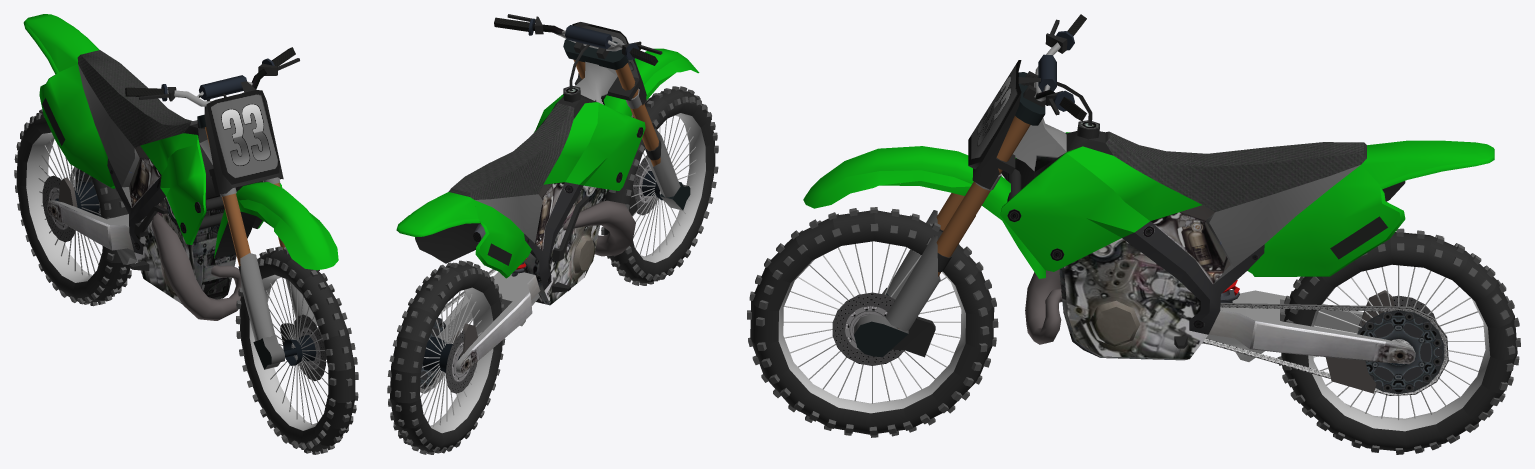
File: Motorcycle_2.FBX
3 renders of one model, left to right at view 1: azimuth 30°, elevation 25°; view 2: azimuth 150°, elevation 25°; view 3: azimuth 270°, elevation 25°, orthographic. The views are drawn at different scales.
Parts seen in each view (by area): view 1: Body, Steer, Wheel_F, Wheel_B, Forks_Rear; view 2: Body, Wheel_B, Wheel_F, Steer, Forks_Rear; view 3: Body, Wheel_F, Wheel_B, Steer, Forks_Rear.
Boxes of the visible parts, x1,y1,x2,y2 form: Body: (23, 14, 282, 320); Steer: (125, 47, 338, 369); Wheel_F: (235, 246, 358, 454); Wheel_B: (14, 109, 134, 306); Forks_Rear: (47, 167, 137, 264); Body: (396, 61, 645, 305); Wheel_B: (387, 260, 505, 454); Wheel_F: (601, 86, 718, 285); Steer: (494, 14, 699, 215); Forks_Rear: (420, 269, 540, 393); Body: (1000, 118, 1494, 360); Wheel_F: (747, 207, 998, 437); Wheel_B: (1277, 228, 1520, 454); Steer: (803, 14, 1092, 357); Forks_Rear: (1202, 290, 1448, 395).
Bounding box in the file's own units: 22.79 × 42.5 × 76.14.
Materials: 4 (2 with a texture image).
